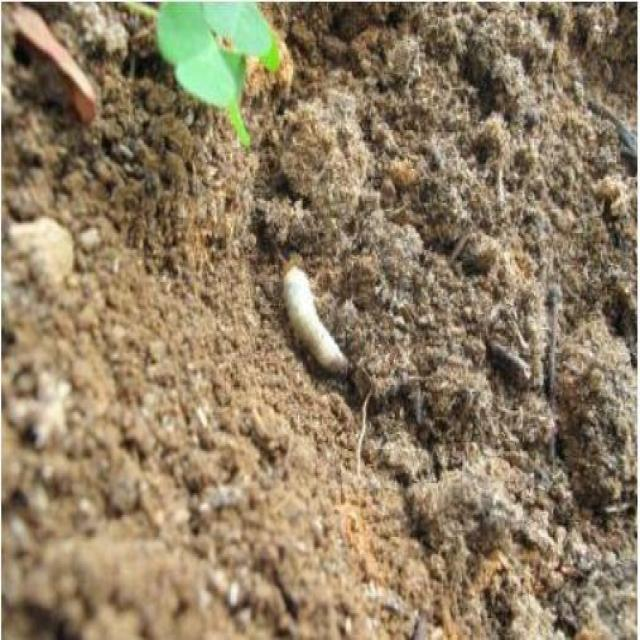Grub-Adult-: (268, 254, 359, 377)
